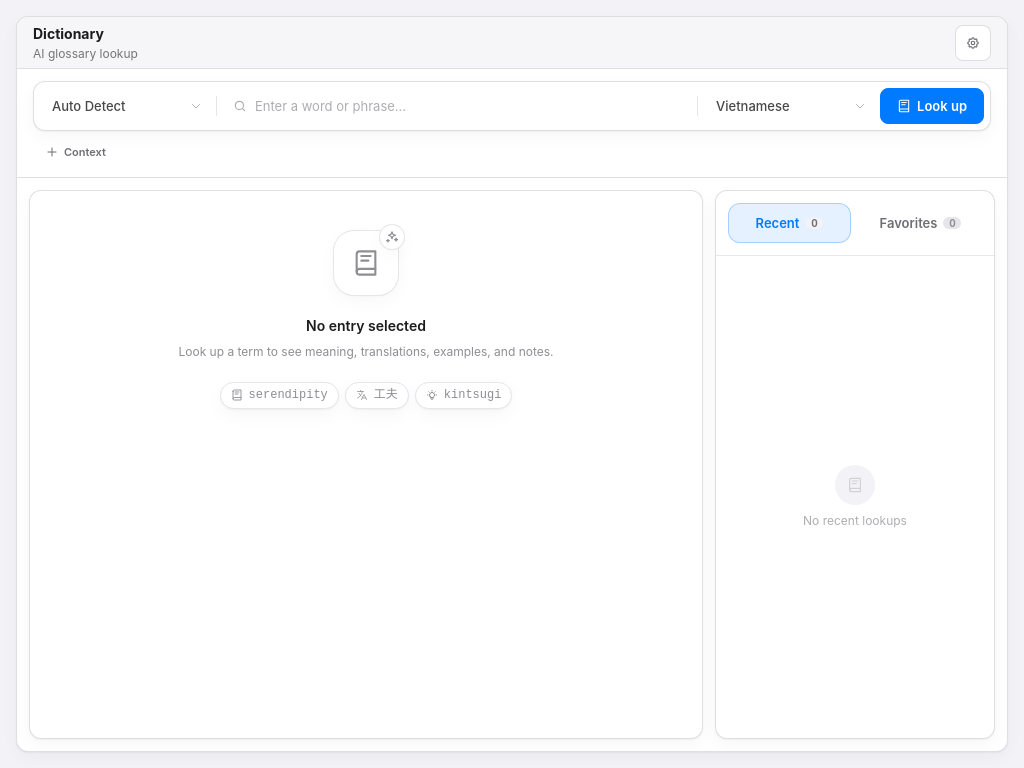
it: DictionaryPage › shows a localized validation error for empty terms
The image size is (1024, 768).
Click the button "Look up" at (932, 106), box top-left (880, 88), bottom-right (984, 124)
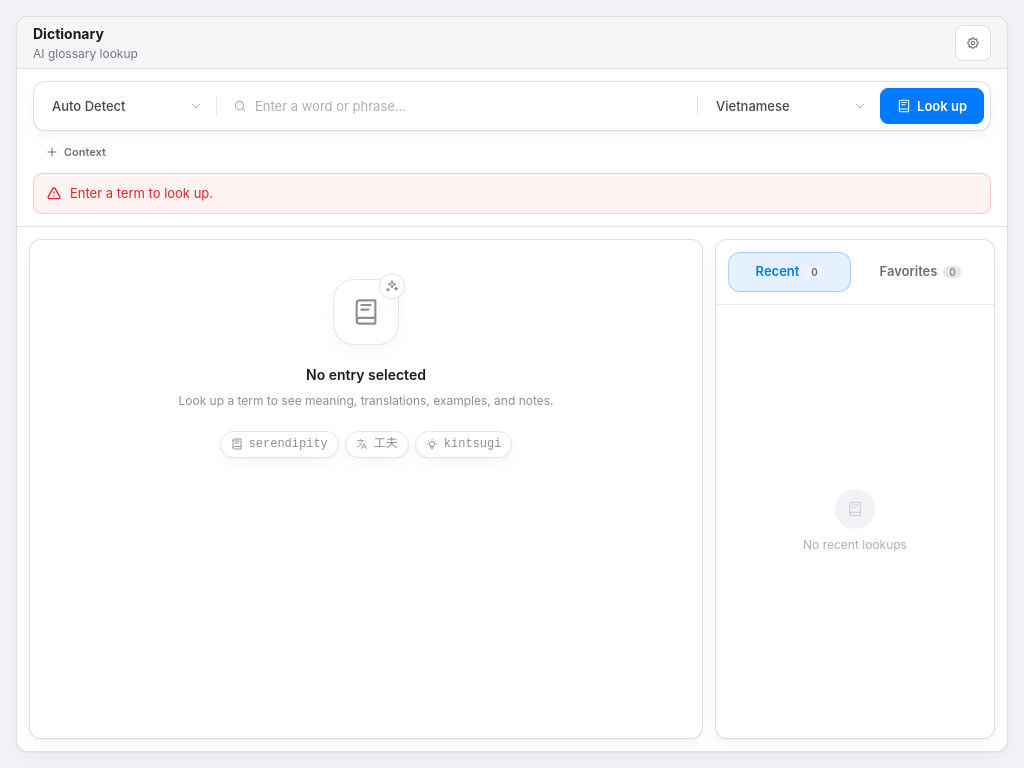
Expected: the text "Enter a term to look up." is shown, top-left (70, 184), bottom-right (213, 203)
